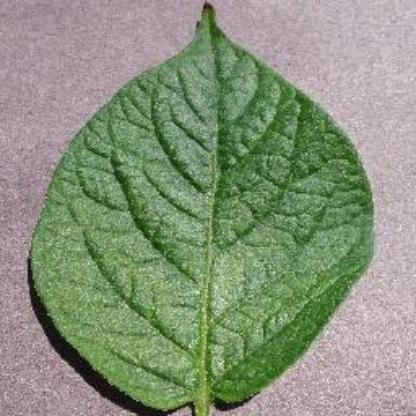Healthy-plant: (12, 8, 388, 416)
